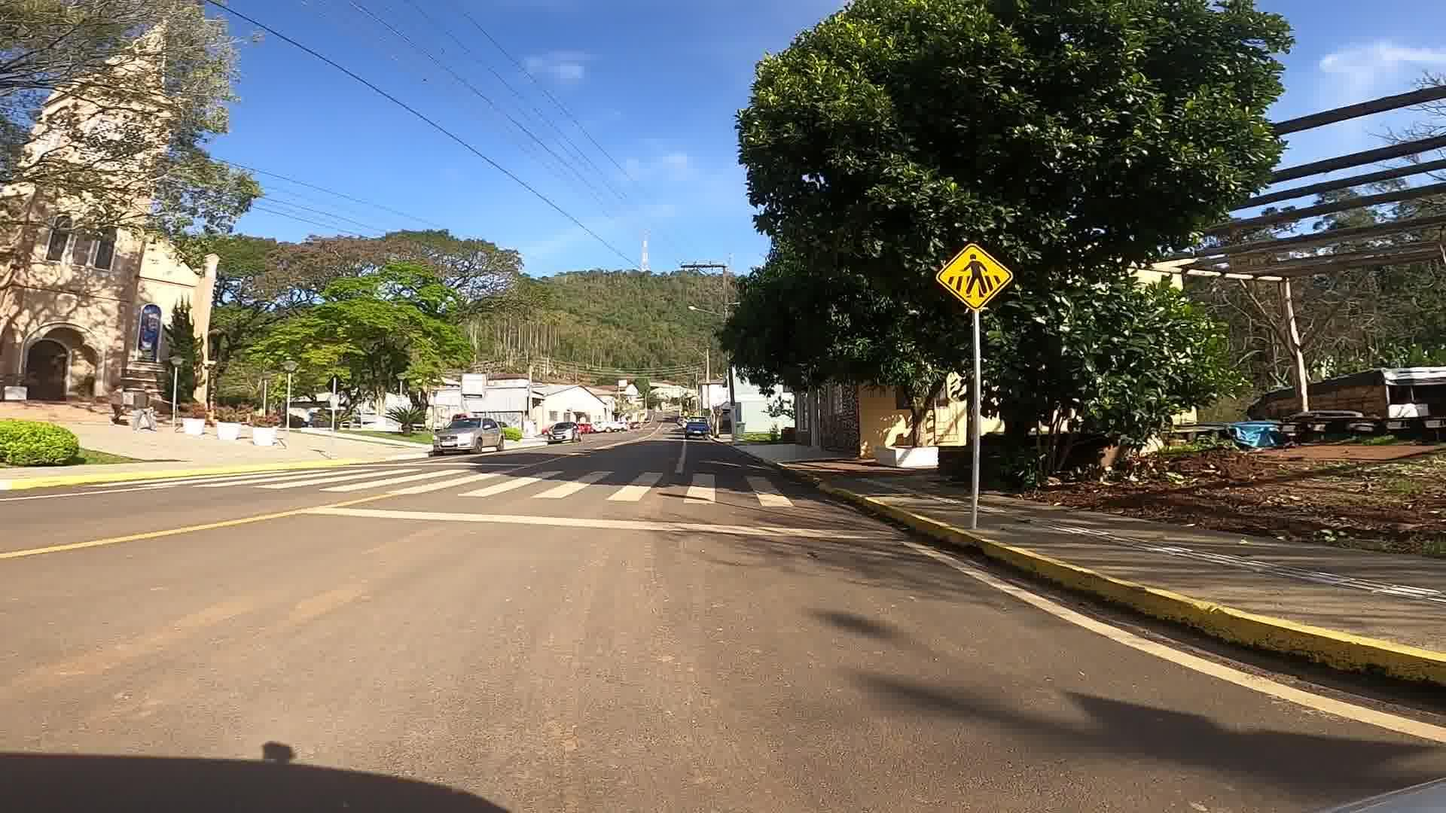A-32b: (932, 237, 1016, 316)
